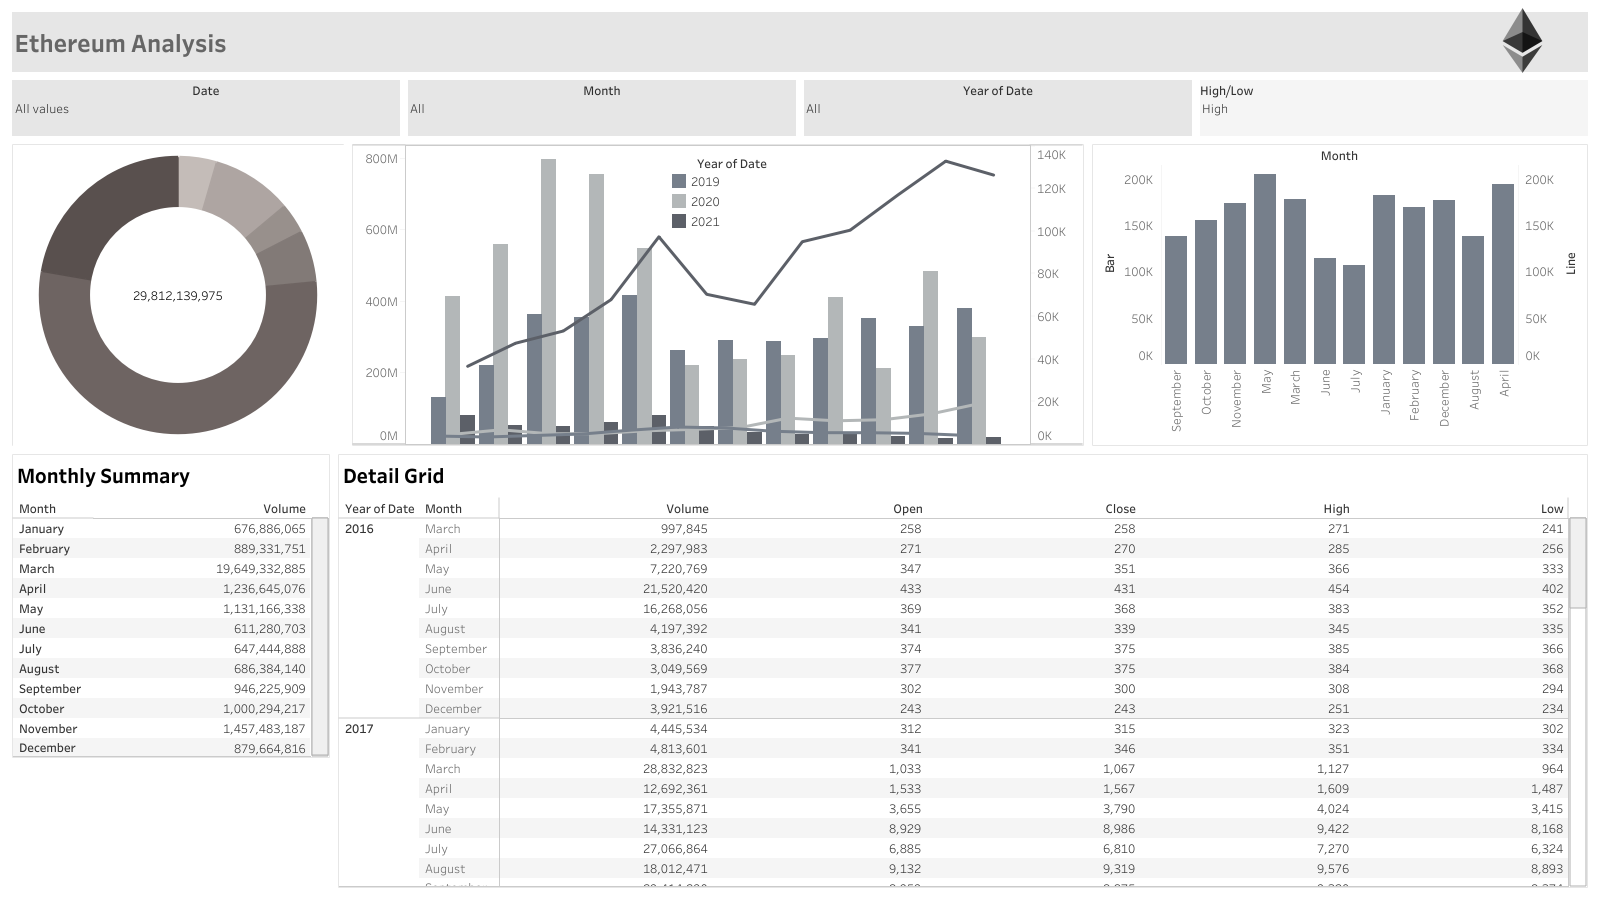

Layout of this report page (visuals, bound fields, positions):
{"tool":"tableau","page":{"name":"Dashboard 1","canvas":[1600,900],"ordinal":0},"visuals":[{"type":"text","box":[8,8,1584,68]},{"type":"image","param":"C:/Users/iamku/Downloads/ethereum-eth-logo-removebg-preview.png","box":[1480.7,8,82.9,65]},{"type":"filter","title":"PIE","param":"[federated.0e4ajsd0y0esjj1fv00sr0c6oo5w].[none:Date:qk]","box":[8,76,396,64]},{"type":"filter","title":"PIE","param":"[federated.0e4ajsd0y0esjj1fv00sr0c6oo5w].[none:Calculation_1061442176363012101:n","box":[404,76,396,64]},{"type":"filter","title":"PIE","param":"[federated.0e4ajsd0y0esjj1fv00sr0c6oo5w].[yr:Date:ok]","box":[800,76,396,64]},{"type":"parameter","param":"[Parameters].[Parameter 1]","box":[1196,76,396,64]},{"type":"worksheet","title":"PIE","mark":"Pie","rows":["Calculation_1061442176338944001","Calculation_1061442176338944001"],"box":[8,140,340,310]},{"type":"worksheet","title":"Sheet 5","mark":"Bar","rows":["Volume","Open"],"box":[348,140,740,310]},{"type":"worksheet","title":"line grapgh","mark":"Automatic","rows":["Calculation_1061442176382193674","Bar (copy)_1061442176388628491"],"cols":["Calculation_1061442176363012101"],"box":[1088,140,504,310]},{"type":"legend","title":"Sheet 5","param":"[federated.0e4ajsd0y0esjj1fv00sr0c6oo5w].[yr:Date:ok]","box":[669,152,124,78]},{"type":"worksheet","title":"Monthly Summary","mark":"Automatic","rows":["Calculation_1061442176363012101"],"box":[8,450,326,311]},{"type":"worksheet","title":"Detail Grid","mark":"Automatic","rows":["Date","Calculation_1061442176363012101"],"box":[334,450,1258,442]}]}

Visuals, with their boxes in screenshot pixels (x1, y1, x2, y2), scaled from the page's 1600x900 canvas onto the 1599x899 screenshot:
text: bbox=(8, 8, 1591, 76)
image: bbox=(1480, 8, 1563, 73)
"PIE" filter: bbox=(8, 76, 404, 140)
"PIE" filter: bbox=(404, 76, 800, 140)
"PIE" filter: bbox=(800, 76, 1195, 140)
parameter: bbox=(1195, 76, 1591, 140)
"PIE" worksheet (Pie marks): bbox=(8, 140, 348, 450)
"Sheet 5" worksheet (Bar marks): bbox=(348, 140, 1087, 450)
"line grapgh" worksheet: bbox=(1087, 140, 1591, 450)
"Sheet 5" legend: bbox=(669, 152, 793, 230)
"Monthly Summary" worksheet: bbox=(8, 450, 334, 760)
"Detail Grid" worksheet: bbox=(334, 450, 1591, 891)
